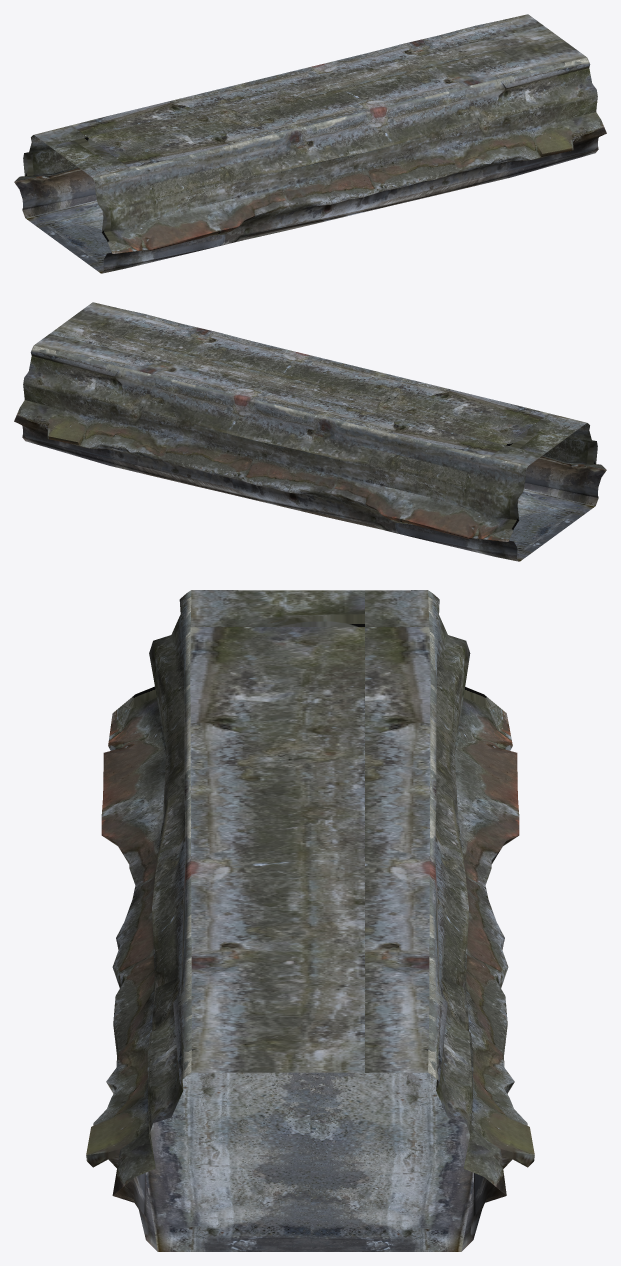
The model's file is SM_ChapelCornice_01_03.fbx.
3 views of the same model, one above another, from view 1: azimuth 30°, elevation 25°; view 2: azimuth 150°, elevation 25°; view 3: azimuth 270°, elevation 25° (orthographic). The views are drawn at different scales.
Parts seen in each view (by area): view 1: sm_ChapelCornice_01_03_LOD0; view 2: sm_ChapelCornice_01_03_LOD0; view 3: sm_ChapelCornice_01_03_LOD0.
Part boxes in pixels (x1,y1,x2,y2): sm_ChapelCornice_01_03_LOD0: (14,14,606,273); sm_ChapelCornice_01_03_LOD0: (14,302,606,561); sm_ChapelCornice_01_03_LOD0: (86,590,534,1251).
Bounding box in the file's own units: 98.24 × 250 × 43.81.
